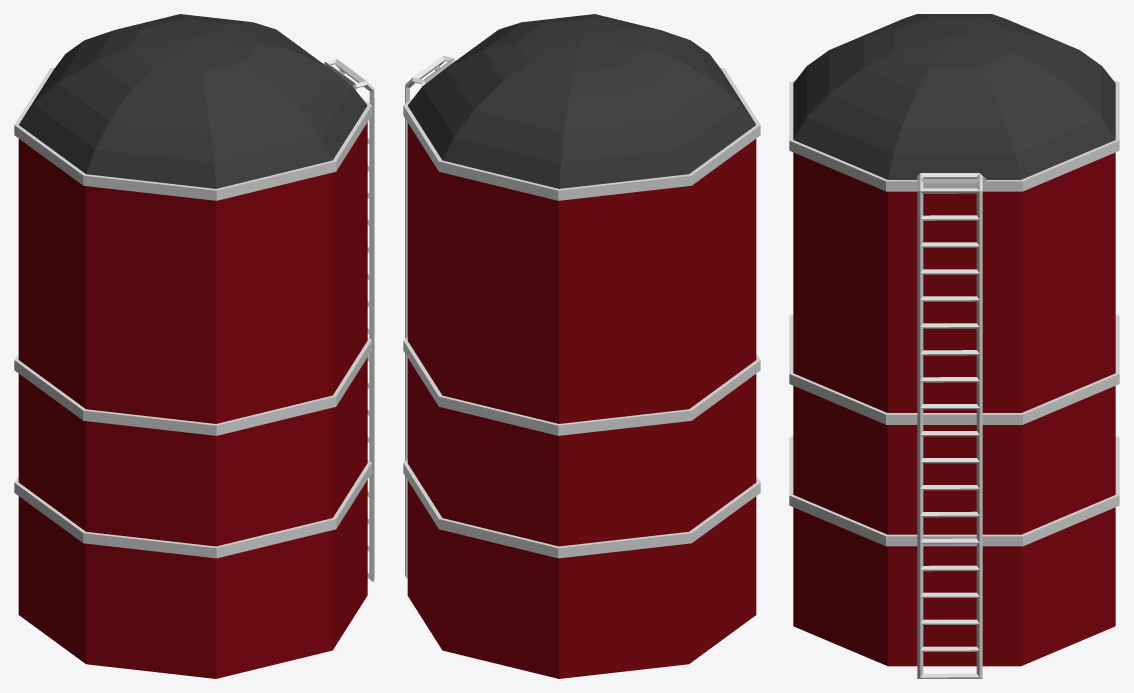
The model's file is silo.fbx.
3 views of the same model, side by side, from view 1: azimuth 30°, elevation 25°; view 2: azimuth 150°, elevation 25°; view 3: azimuth 270°, elevation 25° (orthographic).
Visible parts, largest first — view 1: silo; view 2: silo; view 3: silo.
Part boxes in pixels (x1,y1,x2,y2): silo: (14, 14, 374, 678); silo: (403, 14, 760, 678); silo: (789, 14, 1119, 678).
Size of the model in its own units: 1823 by 3212 by 1705.
